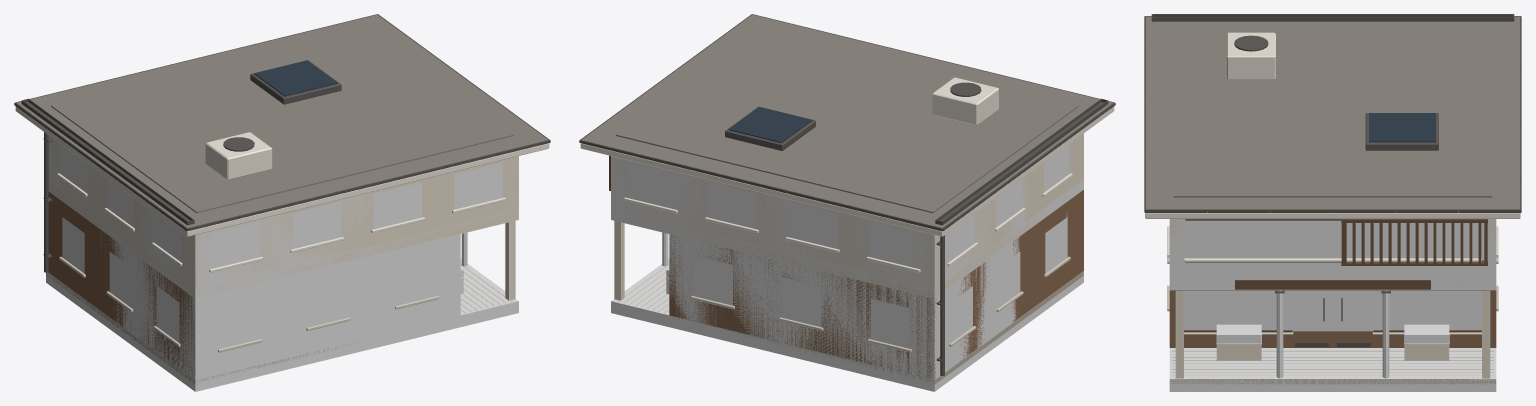
3 renders of one model, left to right at view 1: azimuth 30°, elevation 25°; view 2: azimuth 150°, elevation 25°; view 3: azimuth 270°, elevation 25°, orthographic. The views are drawn at different scales.
Visible parts, largest first — view 1: T03_body, col_ground, col_upper, col_floor; view 2: T03_body, col_ground, col_upper, col_floor; view 3: T03_body, col_upper, col_floor, col_ground, col_planter_+2, col_planter_-2, col_steel_+1, col_steel_-1.
Part boxes in pixels (x1=…): T03_body: x1=14, y1=14, x2=550, y2=384; col_ground: x1=51, y1=217, x2=460, y2=379; col_upper: x1=48, y1=136, x2=518, y2=298; col_floor: x1=46, y1=259, x2=518, y2=391; T03_body: x1=579, y1=14, x2=1115, y2=384; col_ground: x1=669, y1=213, x2=1067, y2=379; col_upper: x1=611, y1=144, x2=1083, y2=298; col_floor: x1=611, y1=259, x2=1083, y2=391; T03_body: x1=1144, y1=14, x2=1521, y2=384; col_upper: x1=1169, y1=219, x2=1496, y2=290; col_floor: x1=1169, y1=348, x2=1496, y2=391; col_ground: x1=1184, y1=290, x2=1481, y2=331; col_planter_+2: x1=1404, y1=324, x2=1449, y2=360; col_planter_-2: x1=1216, y1=324, x2=1261, y2=360; col_steel_+1: x1=1382, y1=290, x2=1389, y2=378; col_steel_-1: x1=1276, y1=290, x2=1283, y2=378.
Bounding box in the file's own units: 11.24 × 5.94 × 9.24.
